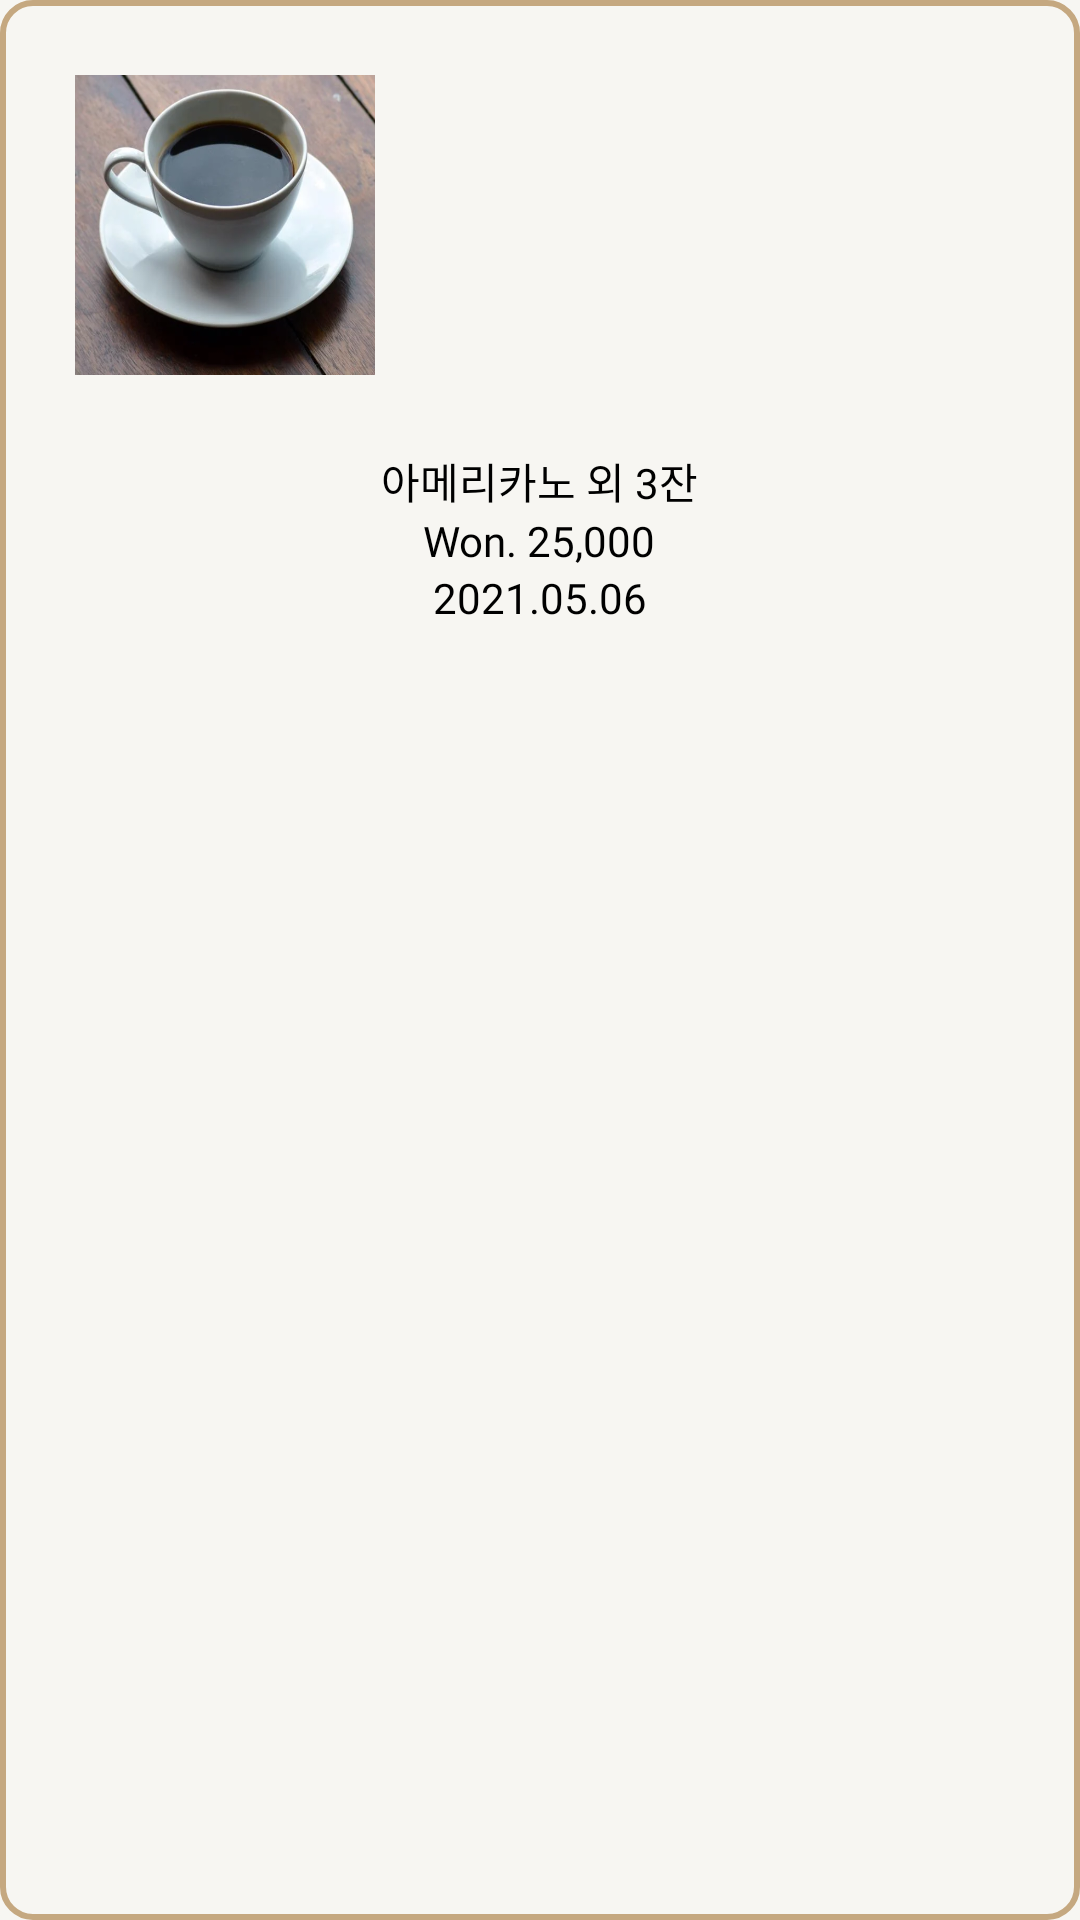

Named icons in this screenshot (1080px x 1920px) and their centers, [x,y]:
coffee: [225,225]
